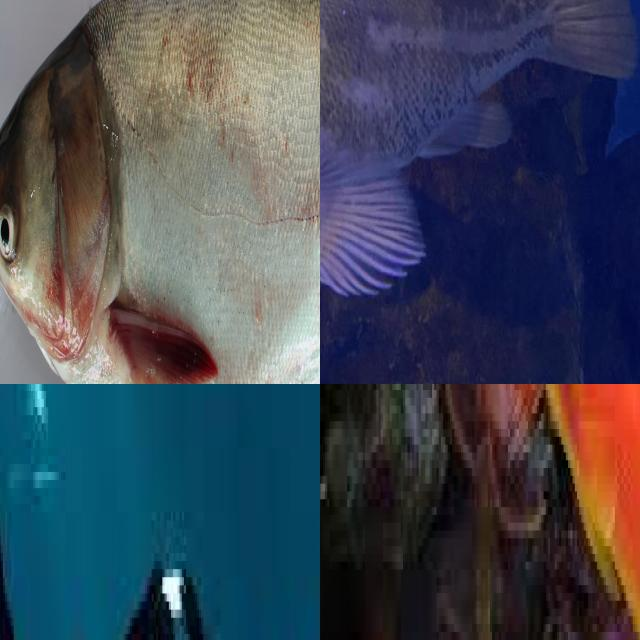fish: (0, 0, 320, 384), (320, 0, 638, 315), (0, 384, 320, 640), (400, 384, 640, 640)
